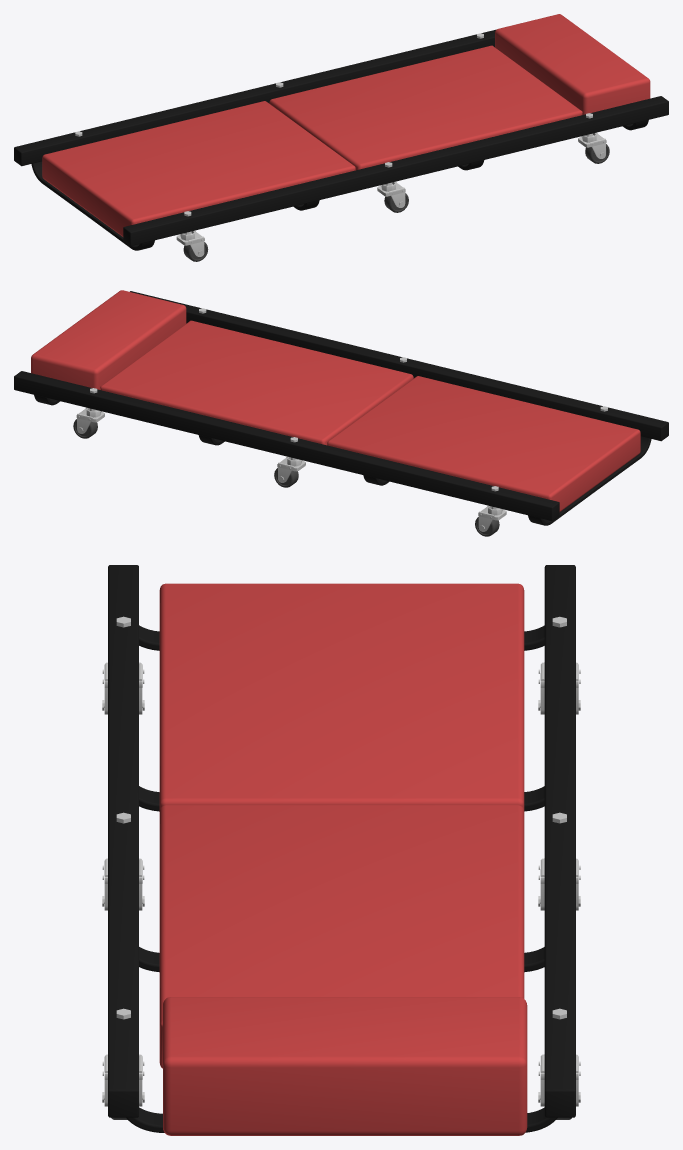
Rendered from WorkshopCreeper.fbx.
3 views of the same model, one above another, from view 1: azimuth 30°, elevation 25°; view 2: azimuth 150°, elevation 25°; view 3: azimuth 270°, elevation 25° (orthographic). The views are drawn at different scales.
Parts seen in each view (by area): view 1: Mattress, Metal_Bars, Casters, Wheels; view 2: Mattress, Metal_Bars, Casters, Wheels; view 3: Mattress, Metal_Bars, Casters.
Boxes of the visible parts, left/top/right/bottom form: Mattress: left=42, top=14, right=650, bottom=236; Metal_Bars: left=14, top=29, right=668, bottom=250; Casters: left=75, top=33, right=606, bottom=256; Wheels: left=183, top=144, right=609, bottom=261; Mattress: left=31, top=290, right=640, bottom=511; Metal_Bars: left=14, top=291, right=668, bottom=525; Casters: left=76, top=308, right=607, bottom=531; Wheels: left=73, top=419, right=499, bottom=536; Mattress: left=159, top=583, right=527, bottom=1135; Metal_Bars: left=108, top=565, right=575, bottom=1132; Casters: left=102, top=616, right=580, bottom=1106.
Bounding box in the file's own units: 120 × 12.82 × 46.14.
